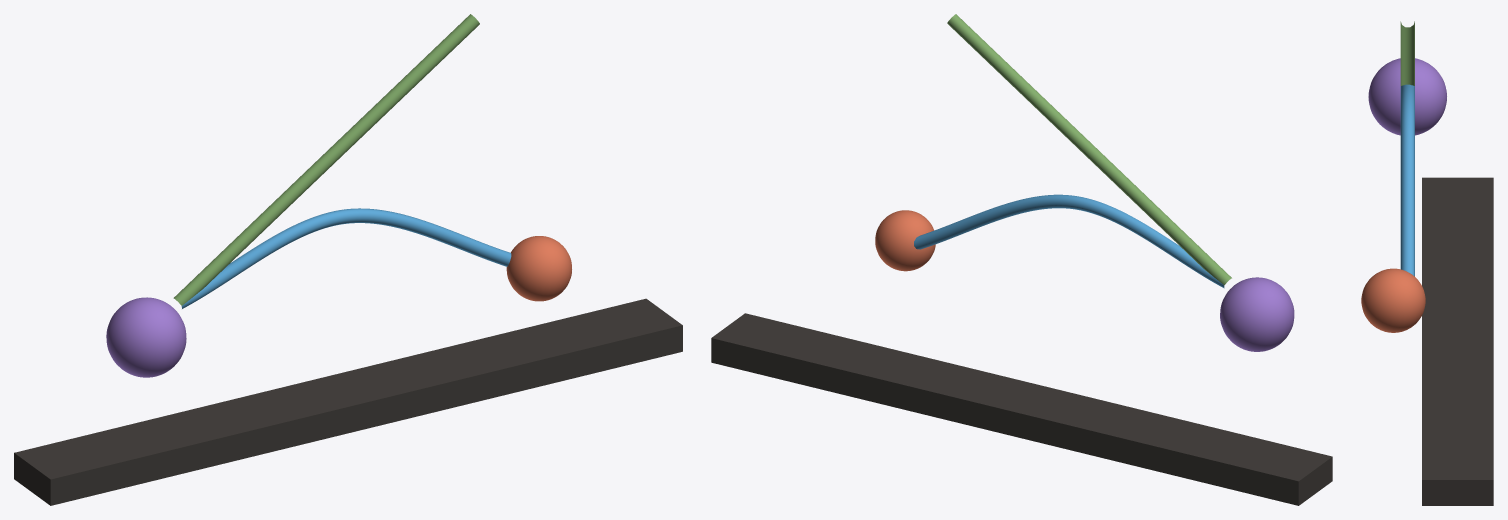
File: biology-evolution-common-ancestry.glb
3 views of the same model, side by side, from view 1: azimuth 30°, elevation 25°; view 2: azimuth 150°, elevation 25°; view 3: azimuth 270°, elevation 25° (orthographic). The views are drawn at different scales.
Parts seen in each view (by area): view 1: generation-ground, ancestry-branch-a, shared-ancestor-node, ancestry-branch-b, derived-trait-marker; view 2: generation-ground, ancestry-branch-a, shared-ancestor-node, ancestry-branch-b, derived-trait-marker; view 3: generation-ground, shared-ancestor-node, derived-trait-marker, ancestry-branch-b, ancestry-branch-a.
Part boxes in pixels (box(x1,y1,x2,y2)): generation-ground: box(14, 298, 682, 505); ancestry-branch-a: box(173, 14, 479, 305); shared-ancestor-node: box(106, 297, 186, 377); ancestry-branch-b: box(181, 208, 511, 308); derived-trait-marker: box(506, 236, 571, 301); generation-ground: box(711, 313, 1332, 505); ancestry-branch-a: box(947, 14, 1231, 285); shared-ancestor-node: box(1220, 277, 1294, 351); ancestry-branch-b: box(914, 194, 1224, 288); derived-trait-marker: box(875, 210, 935, 271); generation-ground: box(1422, 177, 1493, 505); shared-ancestor-node: box(1368, 58, 1446, 135); derived-trait-marker: box(1361, 268, 1425, 332); ancestry-branch-b: box(1400, 84, 1414, 276); ancestry-branch-a: box(1400, 21, 1414, 85).
Size of what is drawn, in the model's own units: 2 by 1.2 by 0.37.
